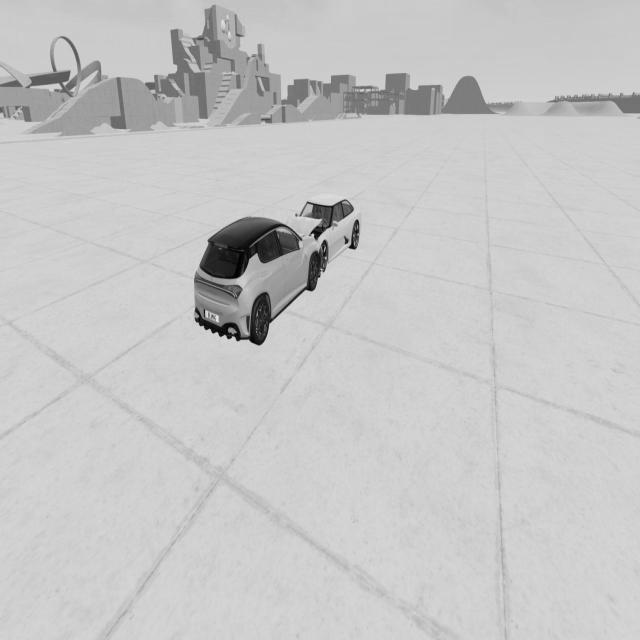accident: (262, 191, 338, 293)
